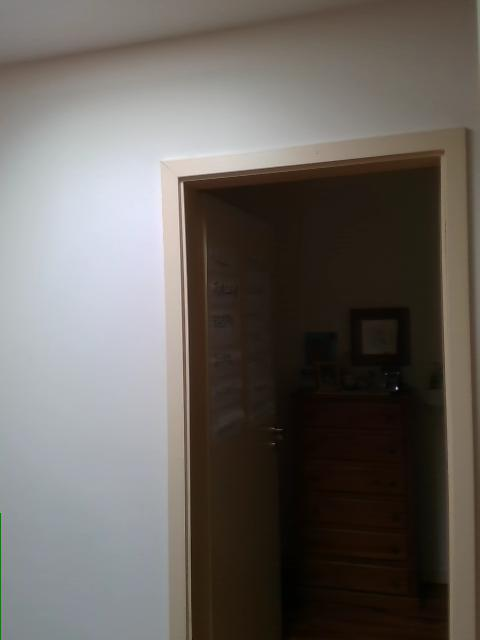open_door: (157, 125, 479, 639)
